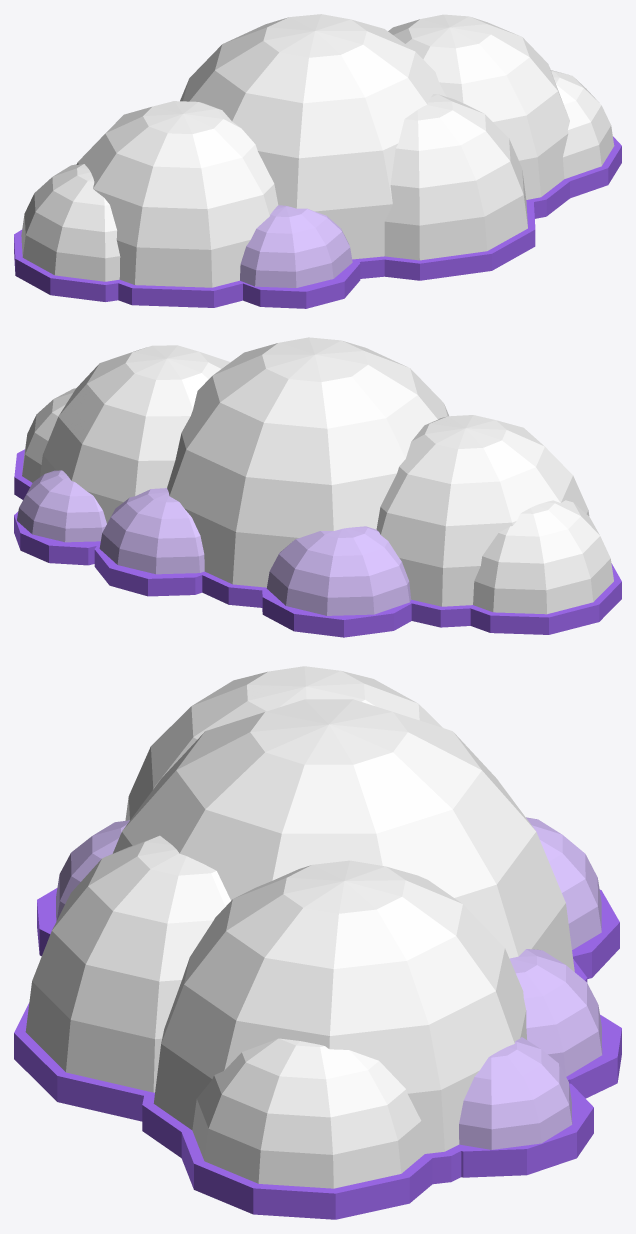
The model's file is Prop_realm_of_legends_CloudBank.glb.
3 renders of one model, top to bottom at view 1: azimuth 30°, elevation 25°; view 2: azimuth 150°, elevation 25°; view 3: azimuth 270°, elevation 25°, orthographic. The views are drawn at different scales.
Visible parts, largest first — view 1: CloudWhite_FFFFFF, ZoneViolet_A66BFF, CloudLilac_D9C2FF; view 2: CloudWhite_FFFFFF, CloudLilac_D9C2FF, ZoneViolet_A66BFF; view 3: CloudWhite_FFFFFF, ZoneViolet_A66BFF, CloudLilac_D9C2FF.
Part boxes in pixels (x1,y1,x2,y2): CloudWhite_FFFFFF: [21, 14, 614, 287]; ZoneViolet_A66BFF: [14, 136, 621, 308]; CloudLilac_D9C2FF: [240, 205, 352, 287]; CloudWhite_FFFFFF: [22, 337, 613, 614]; CloudLilac_D9C2FF: [17, 470, 411, 615]; ZoneViolet_A66BFF: [14, 449, 621, 637]; CloudWhite_FFFFFF: [25, 666, 574, 1188]; ZoneViolet_A66BFF: [14, 888, 621, 1219]; CloudLilac_D9C2FF: [56, 817, 602, 1149].
Size of the model in its own units: 26.49 by 8 by 15.77.
